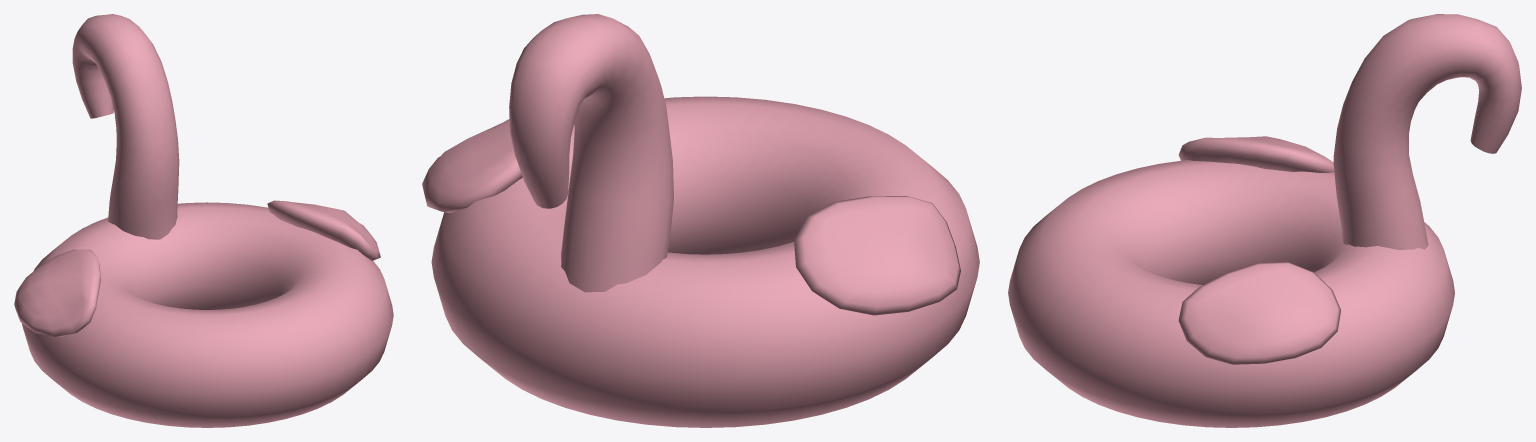
Rendered from flamingo.fbx.
3 views of the same model, side by side, from view 1: azimuth 30°, elevation 25°; view 2: azimuth 150°, elevation 25°; view 3: azimuth 270°, elevation 25° (orthographic). The views are drawn at different scales.
Parts seen in each view (by area): view 1: Torus, Cylinder, Cube.001, Cube; view 2: Torus, Cylinder, Cube.001, Cube; view 3: Torus, Cylinder, Cube, Cube.001.
Boxes of the visible parts, x1,y1,x2,y2 form: Torus: (22,202,393,427); Cylinder: (72,14,179,239); Cube.001: (14,249,100,336); Cube: (267,200,380,260); Torus: (431,96,979,427); Cylinder: (509,14,673,292); Cube.001: (794,196,960,315); Cube: (422,119,522,213); Torus: (1008,160,1454,427); Cylinder: (1333,14,1521,249); Cube: (1178,262,1340,364); Cube.001: (1178,136,1334,172).
Size of the model in its own units: 698 by 542 by 747.
